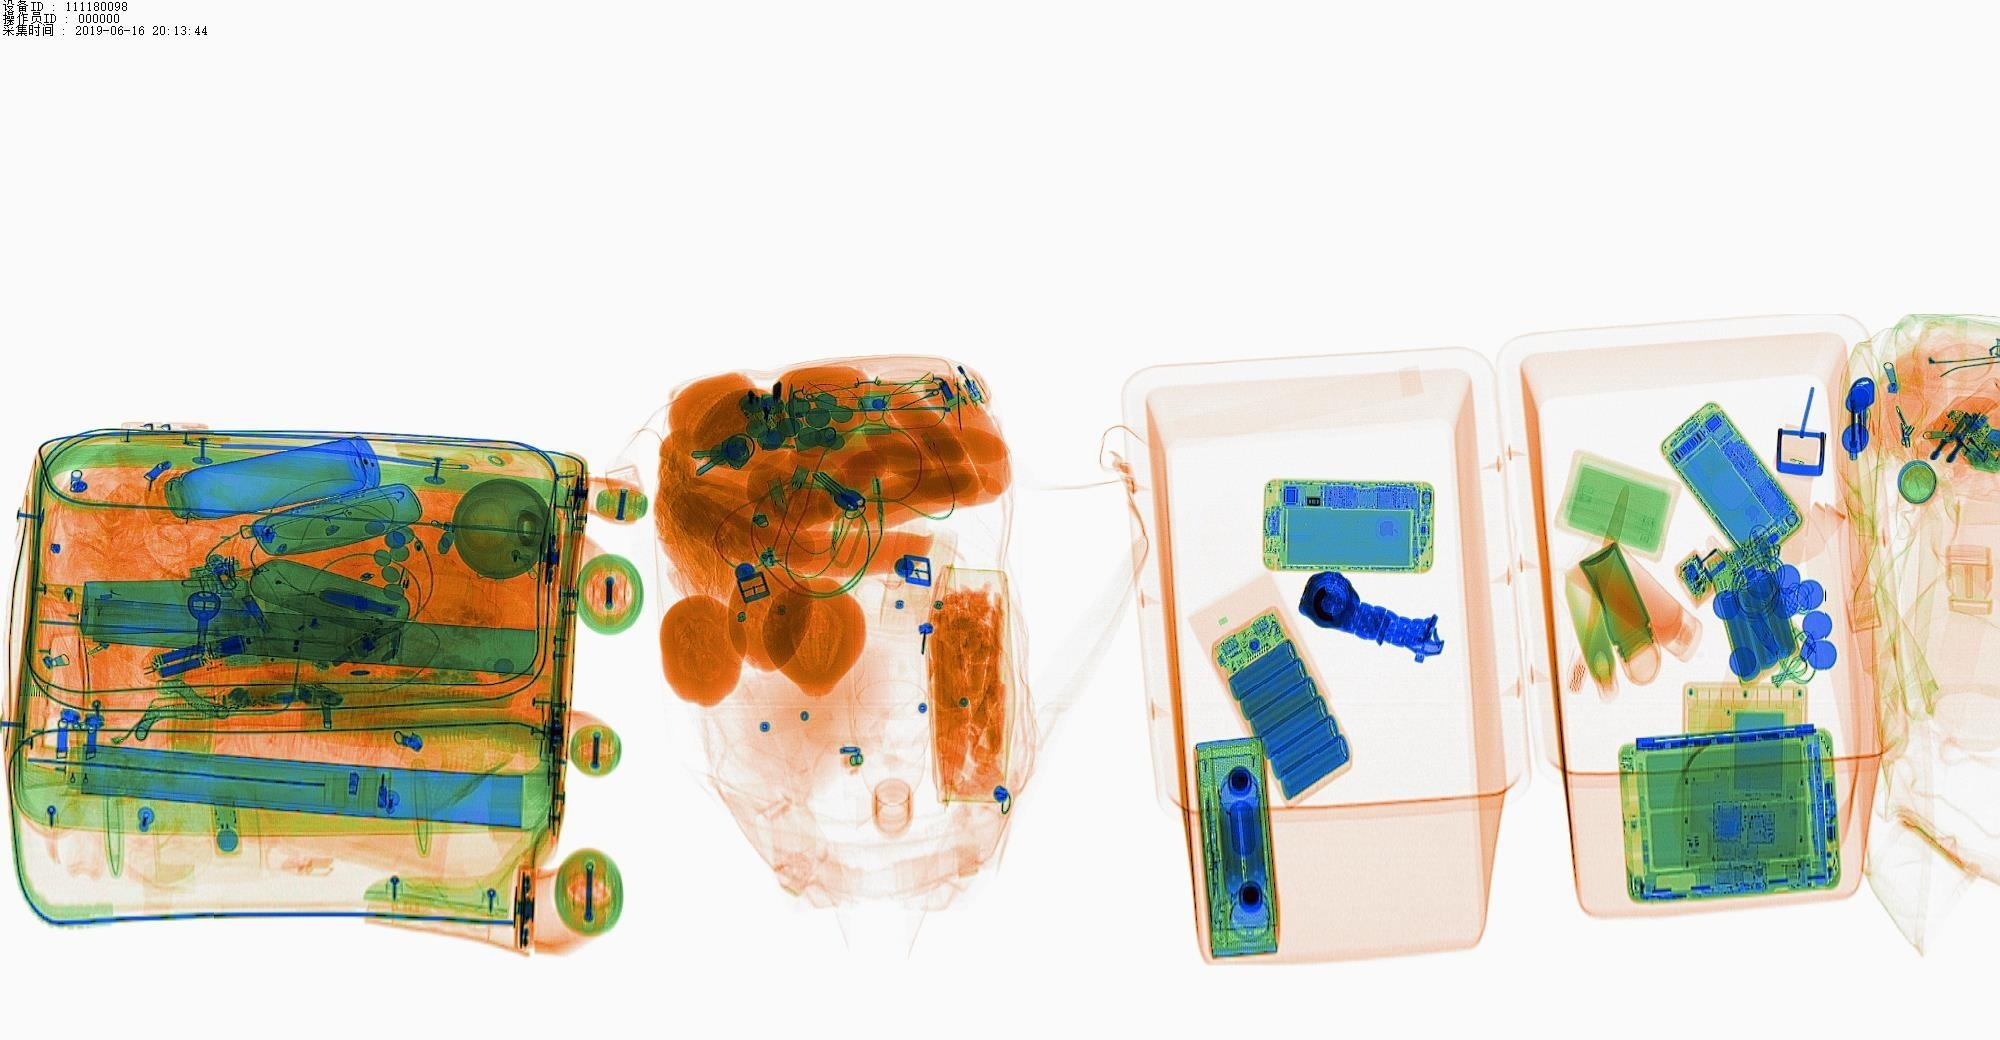NonmetallicFire: (751, 531, 866, 585)
